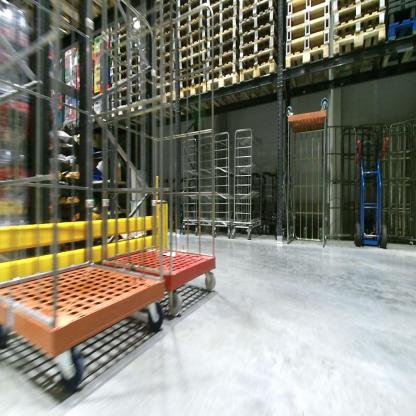pallet: (332, 24, 387, 82), (28, 2, 121, 36), (285, 43, 335, 98), (237, 58, 287, 102), (331, 10, 386, 48), (381, 20, 415, 69), (206, 73, 246, 114), (281, 32, 331, 63), (335, 0, 387, 28), (237, 9, 286, 38), (287, 2, 330, 32), (178, 87, 220, 115), (240, 23, 287, 48), (239, 38, 283, 64), (286, 17, 328, 44), (239, 50, 282, 76), (206, 2, 241, 33), (206, 26, 241, 54), (206, 37, 239, 63), (206, 17, 241, 40), (178, 26, 209, 50), (206, 49, 240, 70), (239, 2, 273, 22), (286, 1, 330, 16), (153, 11, 177, 38), (205, 65, 241, 82), (179, 17, 204, 40), (177, 66, 208, 84), (207, 2, 237, 20), (178, 53, 204, 73), (155, 81, 179, 102), (153, 40, 176, 61), (179, 42, 204, 61), (178, 1, 203, 19), (153, 28, 174, 49), (333, 0, 362, 15), (155, 5, 177, 23), (152, 60, 175, 77), (179, 76, 205, 90), (109, 25, 133, 40), (153, 50, 175, 65), (241, 0, 261, 11), (153, 74, 179, 81)
